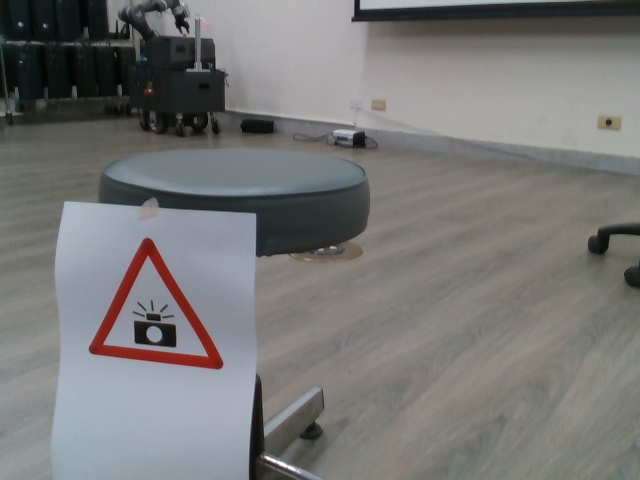camera: (88, 236, 226, 375)
